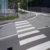zebra: (15, 20, 50, 50)
